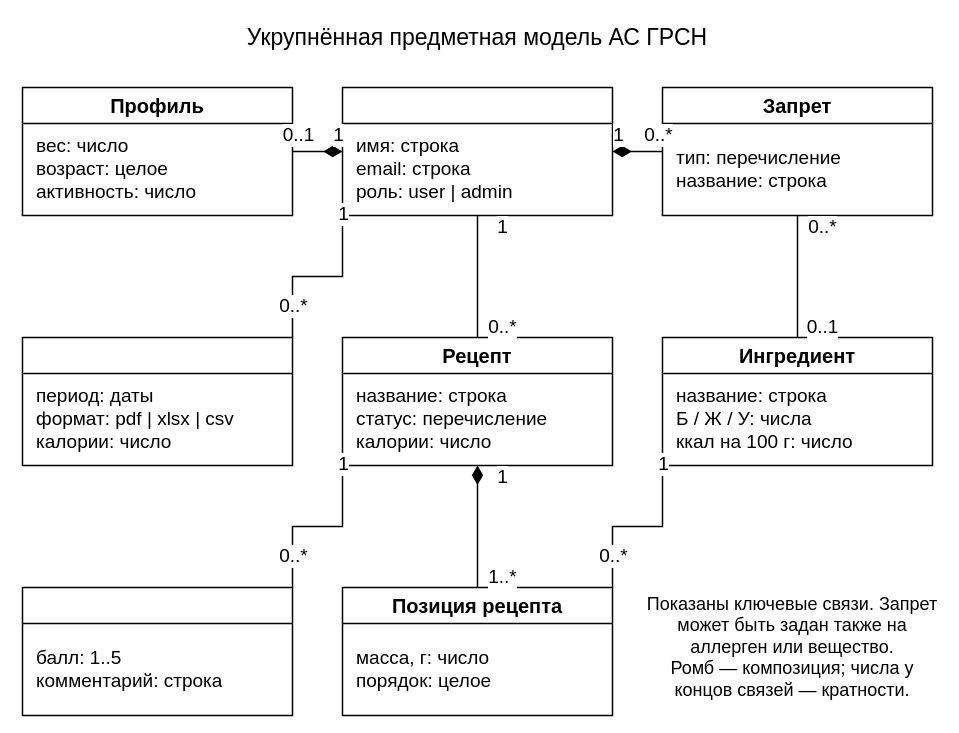
This 959x733 diagram has some shape labels left out. The shapes that lost their labels are listed below. From the top down, each one's box as (x1, y1, x2, y2) in pixels, then its label:
(341, 86, 613, 216): Пользователь
(21, 336, 293, 466): Отчёт
(21, 586, 293, 716): Оценка
